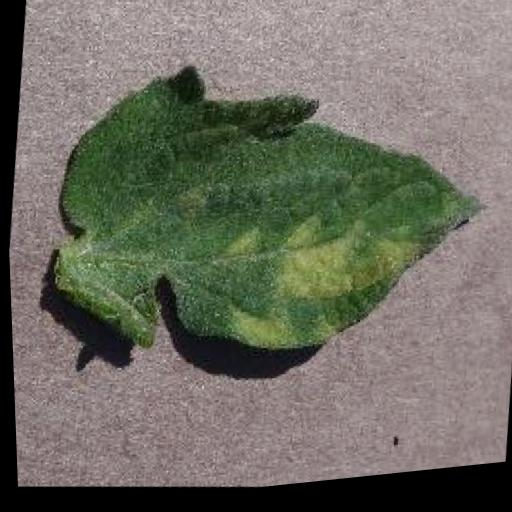Leaf Mold: (39, 29, 509, 393)
